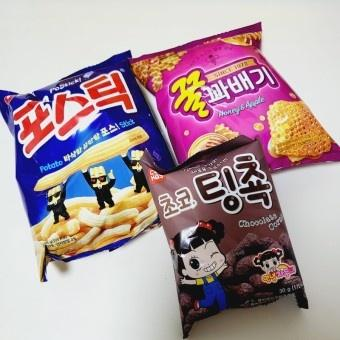snack: (0, 47, 177, 283), (137, 135, 309, 340), (126, 22, 340, 175)
